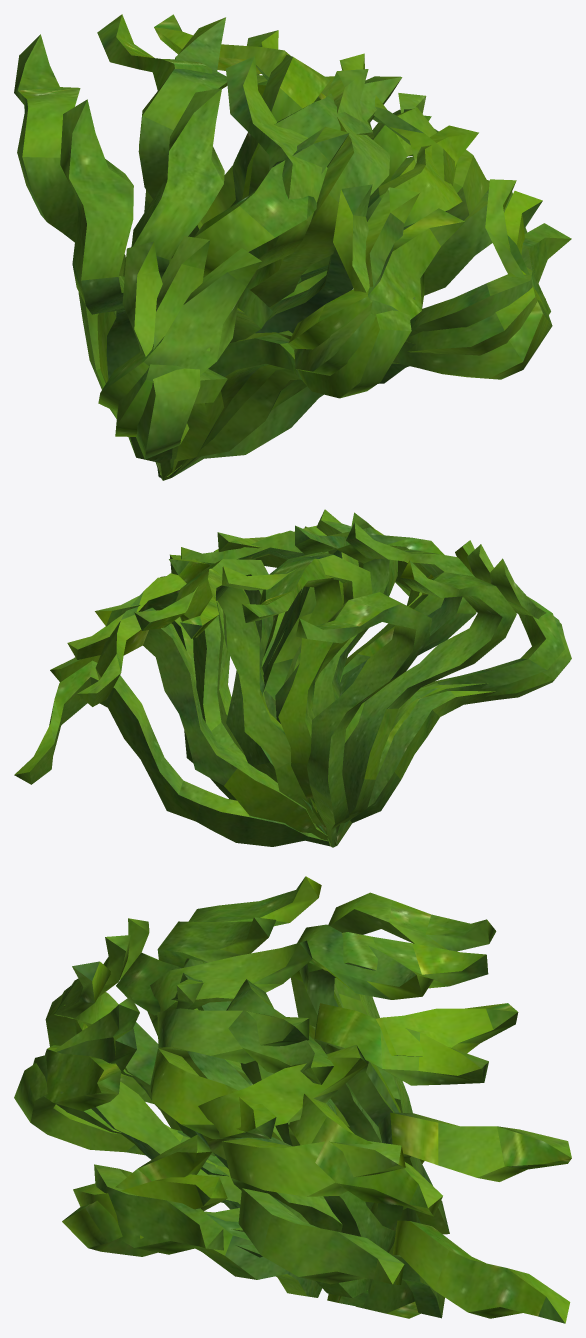
The model's file is Vodorosli.fbx.
3 views of the same model, one above another, from view 1: azimuth 30°, elevation 25°; view 2: azimuth 150°, elevation 25°; view 3: azimuth 270°, elevation 25° (orthographic). The views are drawn at different scales.
Visible parts, largest first — view 1: Cube; view 2: Cube; view 3: Cube.
Boxes of the visible parts, x1=… form: Cube: x1=14, y1=14, x2=571, y2=480; Cube: x1=14, y1=509, x2=571, y2=847; Cube: x1=14, y1=876, x2=571, y2=1323.
Size of the model in its own units: 2.36 by 2.26 by 1.69.
